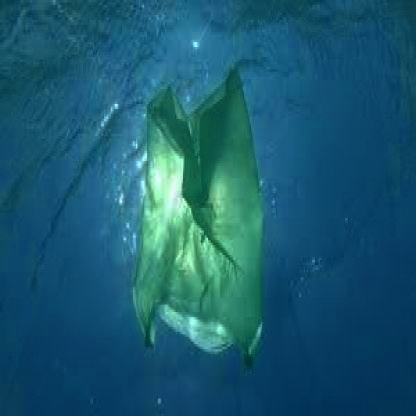pbag: (130, 64, 265, 374)
